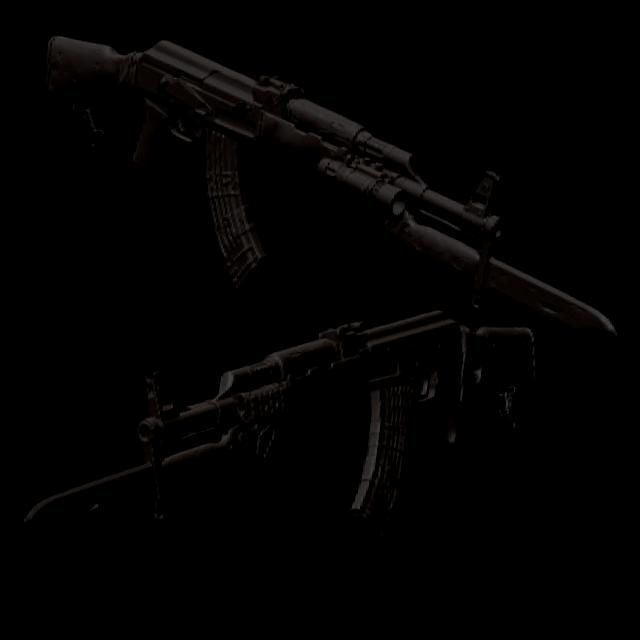long weapon: (10, 13, 639, 337), (13, 260, 546, 594)
